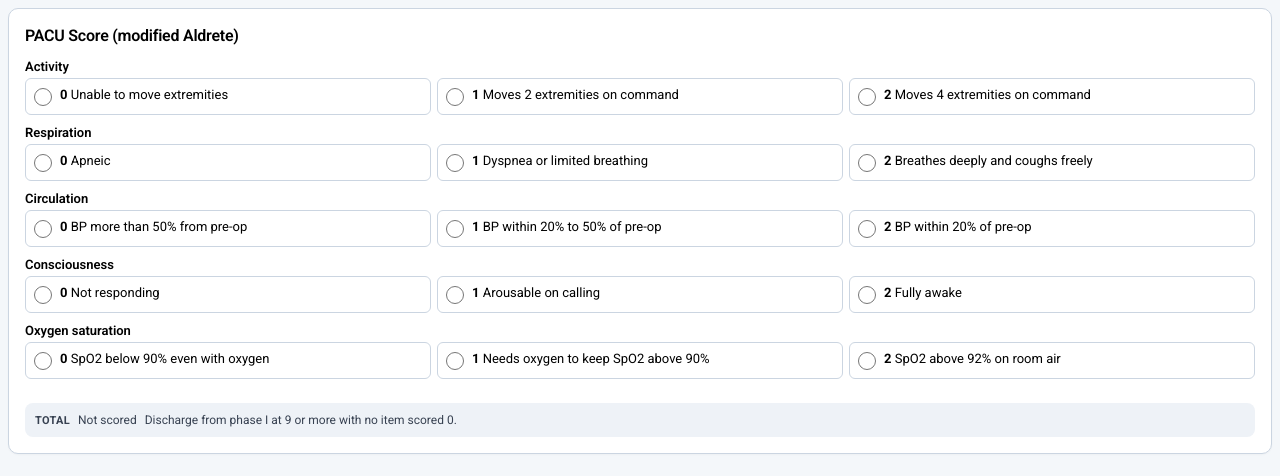
Test: PACUScore › updates the total and readiness as items are scored
Click the radio button labelled "2 Moves 4 extremities on command" at (867, 97), box [858, 88, 876, 106]
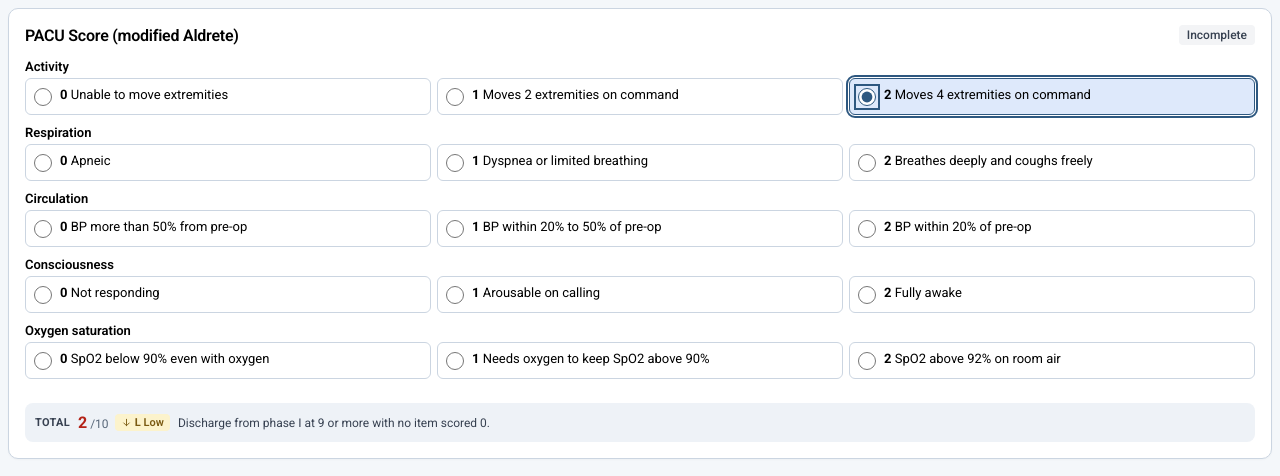
Check: the message shows "2", box [78, 413, 87, 432]
Check: the text "Incomplete" is shown, box [1179, 25, 1255, 45]
Click the radio button labelled "2 Breathes deeply and coughs freely" at (867, 163), box [858, 154, 876, 172]
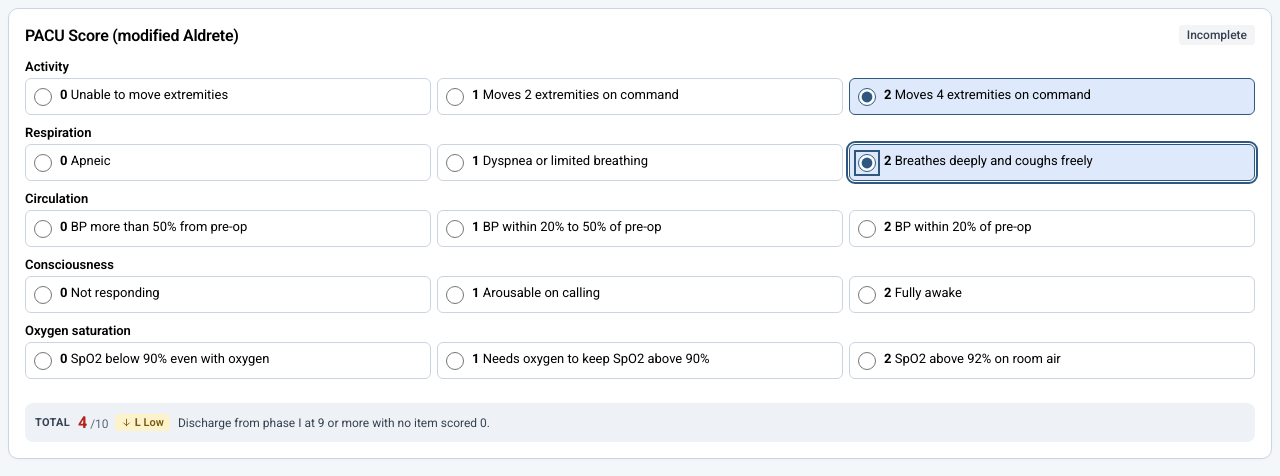
Click the radio button labelled "2 BP within 20% of pre-op" at (867, 229), box [858, 220, 876, 238]
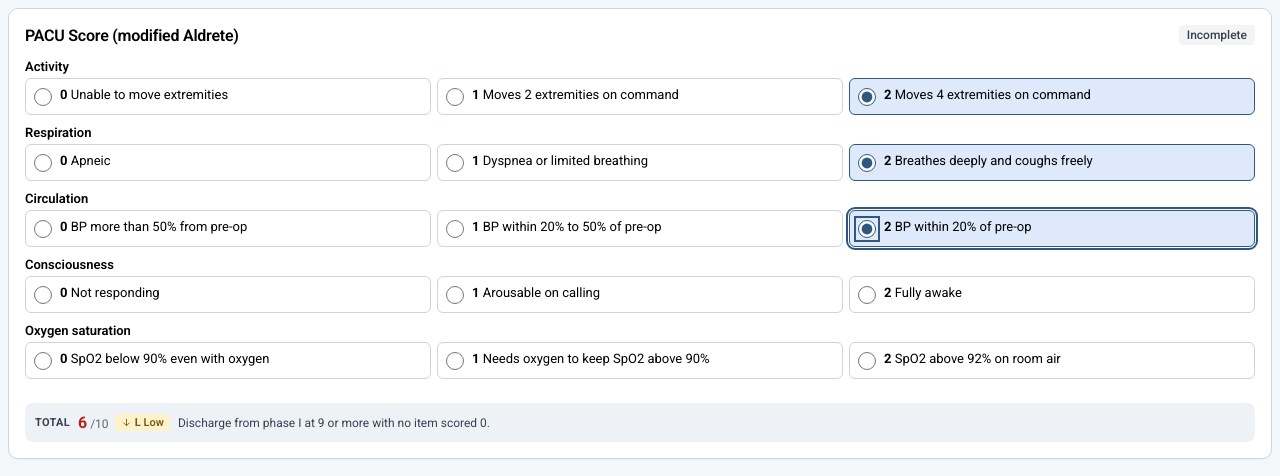
Click the radio button labelled "1 Arousable on calling" at (455, 295), box [446, 286, 464, 304]
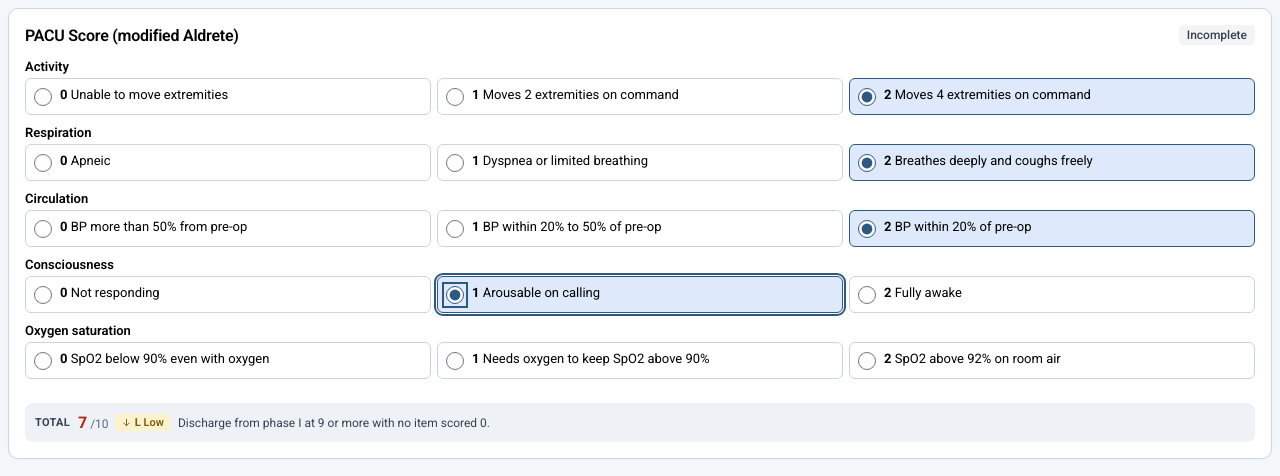
Click the radio button labelled "1 Needs oxygen to keep SpO2 above 90%" at (455, 361), box [446, 352, 464, 370]
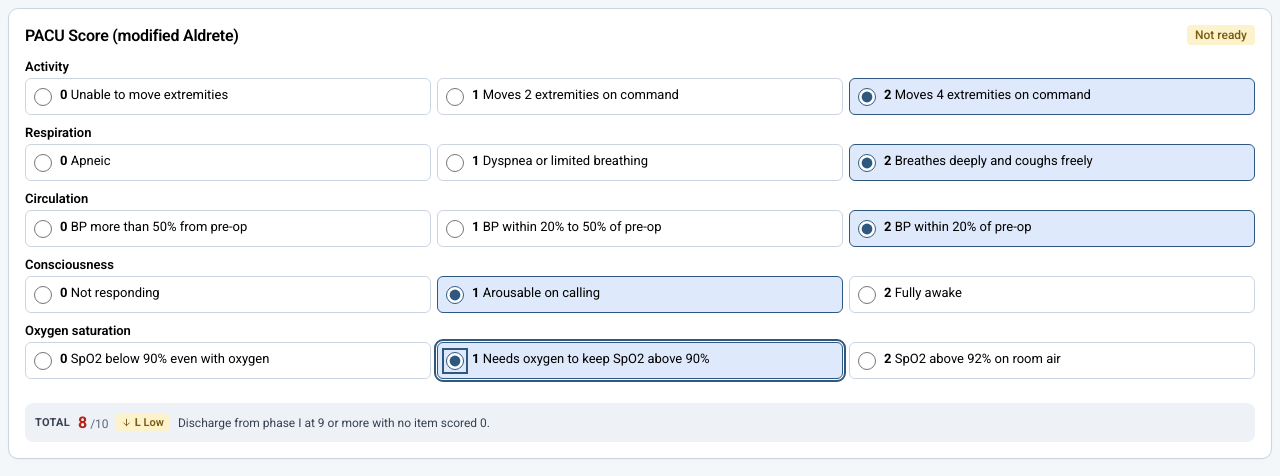
Check: the text "Not ready" is shown, box [1187, 25, 1255, 45]
Click the radio button labelled "2 Fully awake" at (867, 295), box [858, 286, 876, 304]
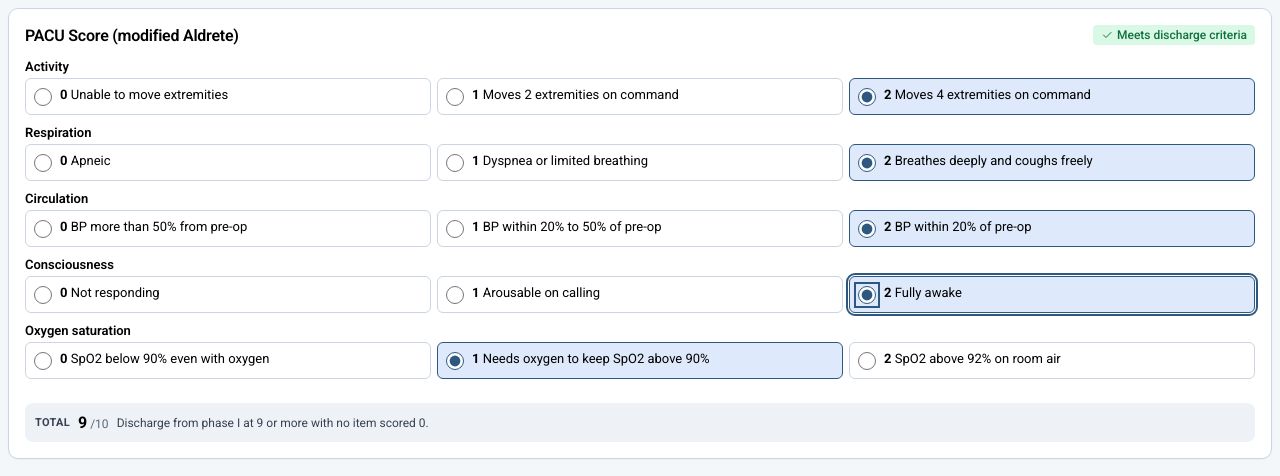
Check: the text "Meets discharge criteria" is shown, box [1093, 25, 1255, 45]
